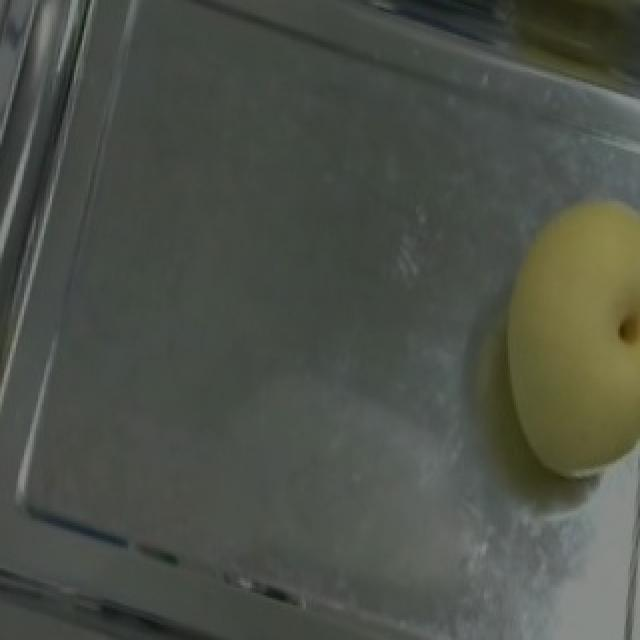Fruit: (452, 166, 640, 504)
